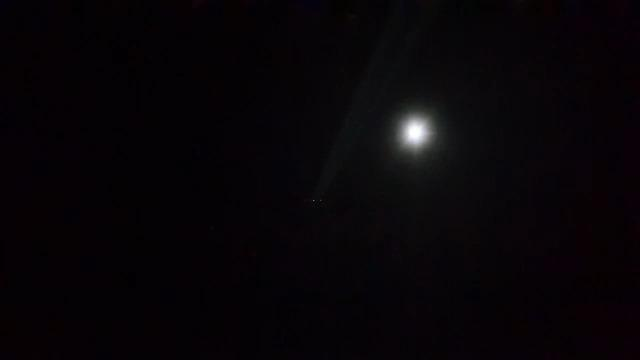Plane: (312, 149, 345, 206)
